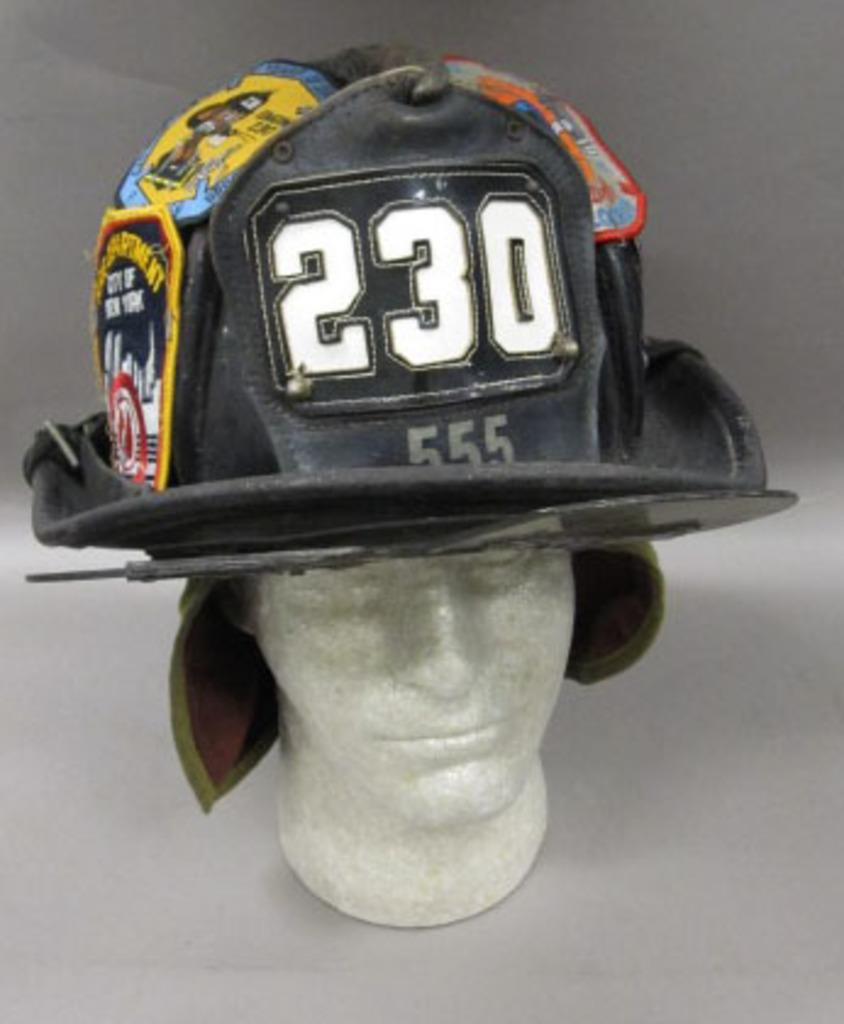Hat: (29, 41, 800, 548)
